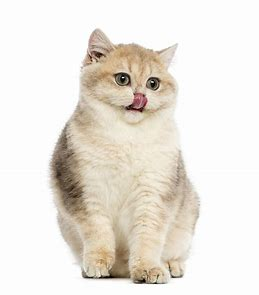cat: (55, 30, 221, 282)
